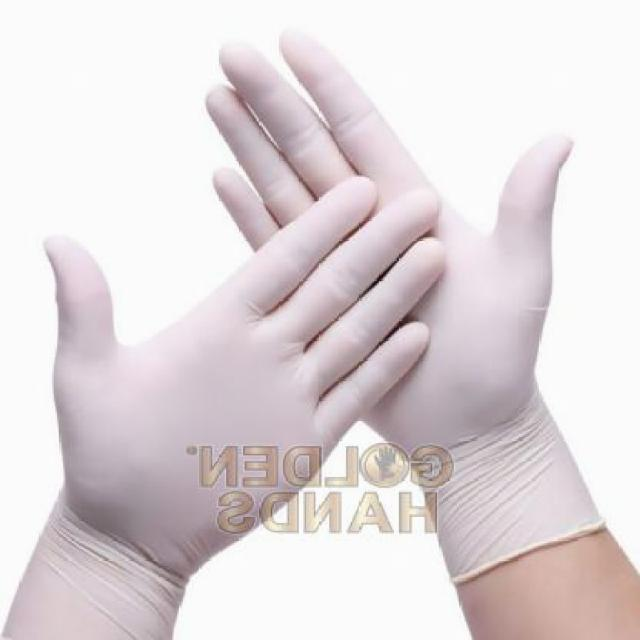glove: (202, 34, 603, 620), (2, 171, 440, 638)
